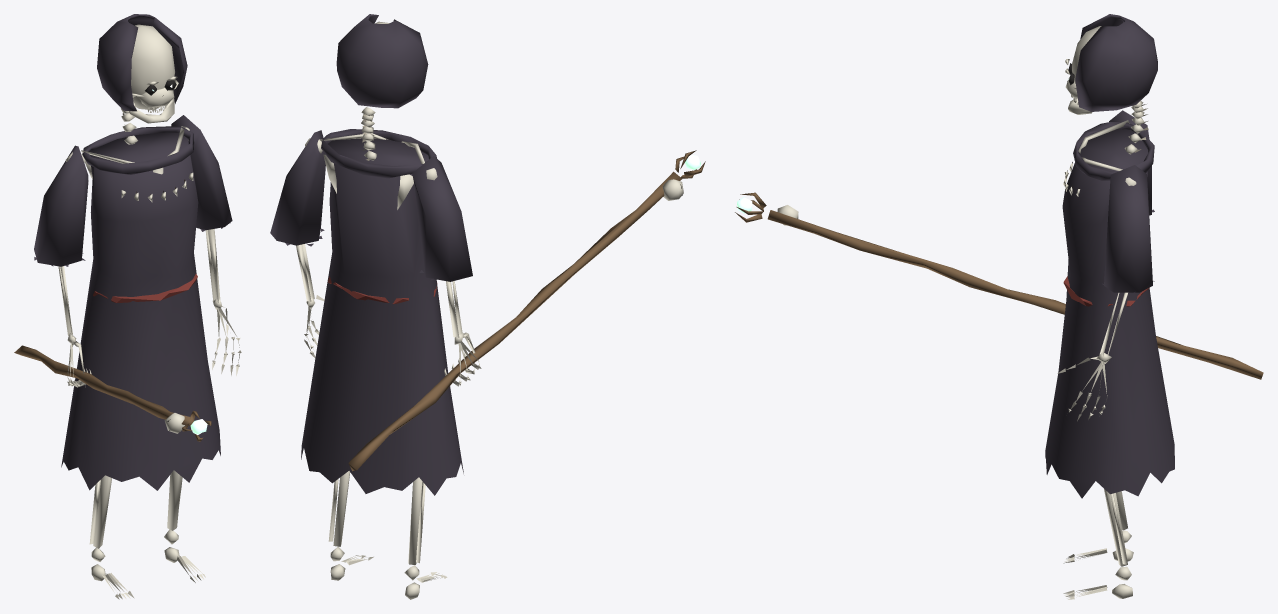
Rendered from undead_robe.glb.
3 renders of one model, left to right at view 1: azimuth 30°, elevation 25°; view 2: azimuth 150°, elevation 25°; view 3: azimuth 270°, elevation 25°, orthographic.
Parts seen in each view (by area): view 1: B_0d; view 2: B_0d; view 3: B_0d.
Boxes of the visible parts, x1,y1,x2,y2 form: B_0d: (14,14,241,599); B_0d: (270,14,705,599); B_0d: (735,14,1263,599).
Bounding box in the file's own units: 0.8554 × 1.94 × 1.66.
